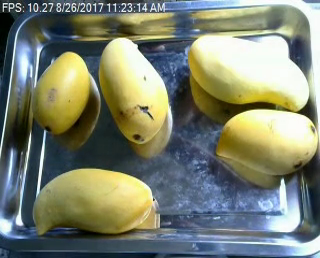Mango: (187, 35, 308, 112), (32, 169, 153, 238), (96, 37, 168, 144), (215, 108, 319, 178), (33, 50, 91, 135)
